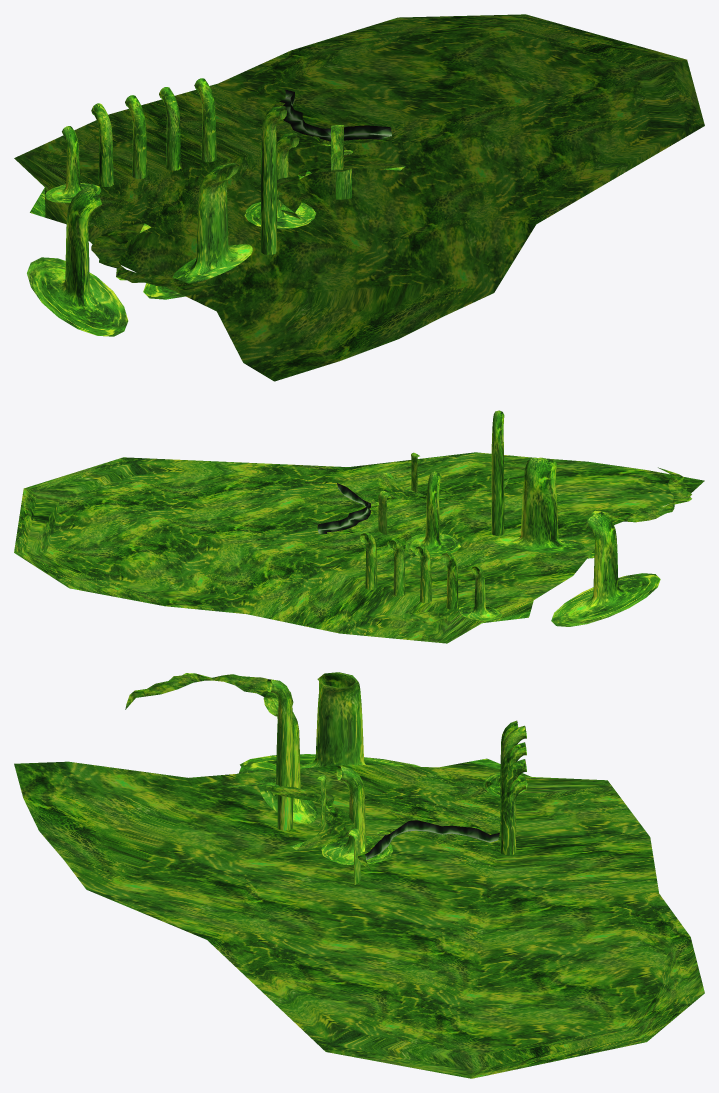
The model's file is stg610_MotLiquid_08.obj.
The picture shows the model from 3 angles, top to bottom: view 1: azimuth 30°, elevation 25°; view 2: azimuth 150°, elevation 25°; view 3: azimuth 270°, elevation 25°; orthographic projection. The views are drawn at different scales.
Visible parts, largest first — view 1: polygon11, polygon3, polygon2, polygon10, polygon13, polygon12, polygon1, polygon0, polygon9, polygon8, polygon7, polygon15 (+3 smaller); view 2: polygon11, polygon3, polygon2, polygon1, polygon10, polygon13, polygon12, polygon9, polygon0, polygon7, polygon6, polygon15 (+3 smaller); view 3: polygon11, polygon3, polygon10, polygon1, polygon2, polygon12, polygon13, polygon0, polygon15, polygon14.
Boxes of the visible parts, x1,y1,x2,y2 form: polygon11: (14, 14, 704, 381); polygon3: (27, 186, 128, 336); polygon2: (143, 163, 252, 299); polygon10: (261, 106, 286, 255); polygon13: (91, 223, 222, 289); polygon12: (277, 154, 405, 222); polygon1: (244, 133, 315, 229); polygon0: (279, 89, 391, 141); polygon9: (45, 126, 101, 203); polygon8: (159, 87, 181, 170); polygon7: (125, 95, 147, 178); polygon15: (194, 78, 216, 161); polygon11: (14, 452, 704, 643); polygon3: (551, 512, 660, 626); polygon2: (494, 457, 594, 558); polygon1: (405, 471, 460, 556); polygon10: (491, 410, 504, 535); polygon13: (591, 467, 691, 522); polygon12: (378, 472, 509, 504); polygon9: (458, 566, 502, 620); polygon0: (317, 483, 370, 533); polygon7: (414, 546, 431, 603); polygon6: (441, 553, 458, 609); polygon15: (360, 533, 377, 589); polygon11: (14, 758, 704, 1078); polygon3: (240, 672, 420, 768); polygon10: (266, 679, 292, 830); polygon1: (321, 766, 392, 865); polygon2: (238, 695, 318, 823); polygon12: (227, 782, 354, 850); polygon13: (125, 673, 293, 709); polygon0: (365, 820, 499, 860); polygon15: (500, 776, 526, 855); polygon14: (357, 821, 497, 871).
Size of the model in its own units: 3738 by 877 by 3119.
3 materials, 3 textured.
